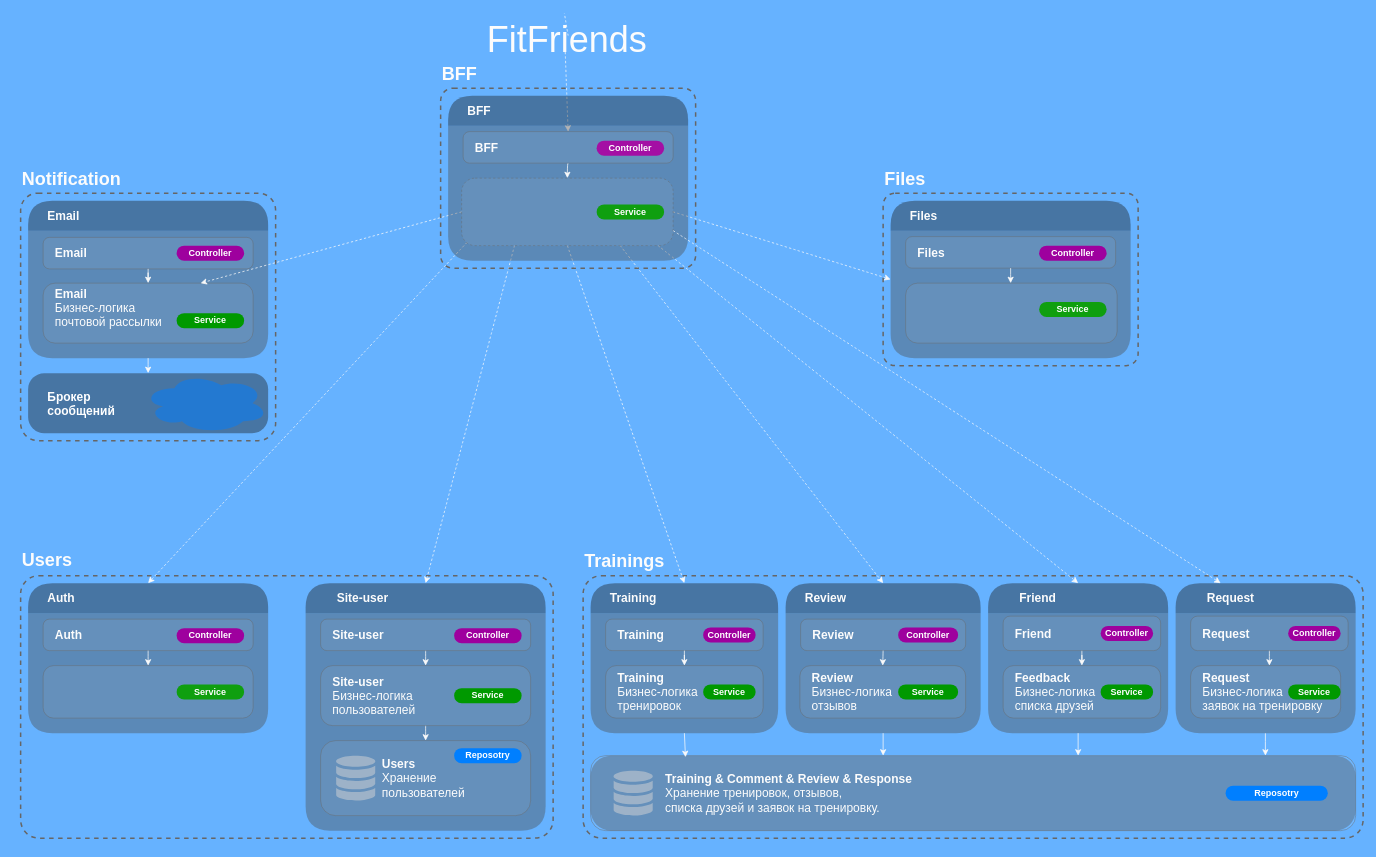
Some shapes in this 1376 by 857 pixel diagram are drawn without their labels. Each missing label, with the centre of its shape:
"Auth Бизнес-логика авторизации" goes at pixel 147 691.
"BFF Взаимодействие с другими сервисами приложеня" goes at pixel 567 211.
"Files Бизнес-логика сохранения изображений" goes at pixel 1011 312.
"Rabbit MQ" goes at pixel 205 403.
